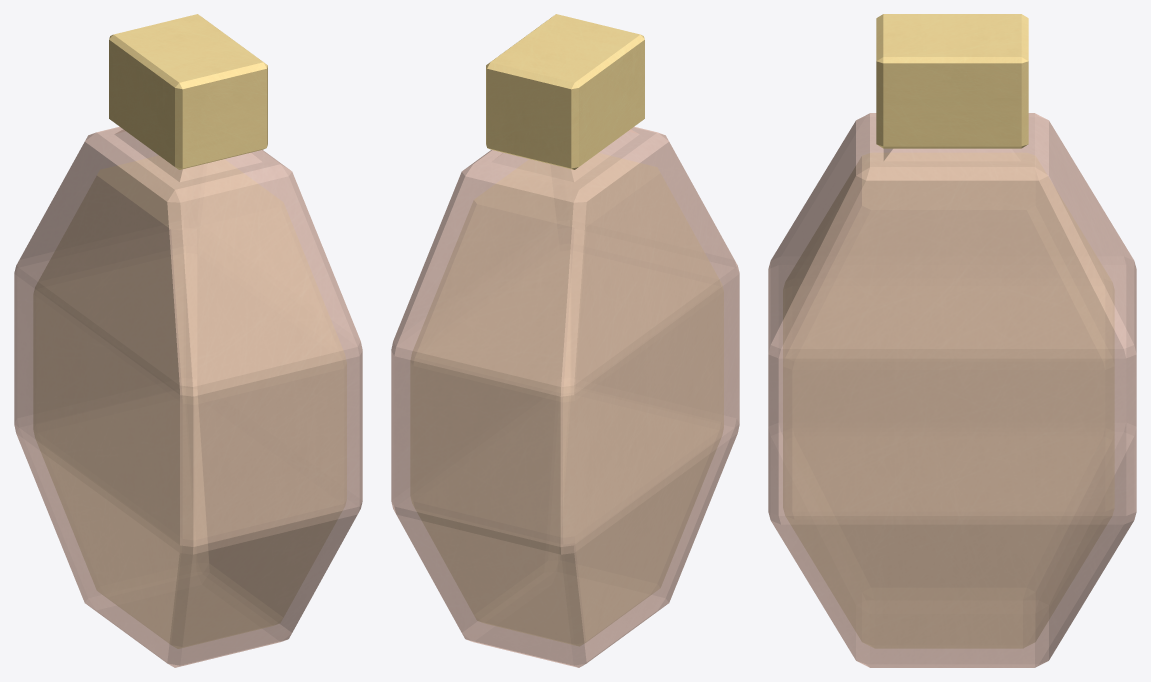
The model's file is bottle_pink.glb.
3 renders of one model, left to right at view 1: azimuth 30°, elevation 25°; view 2: azimuth 150°, elevation 25°; view 3: azimuth 270°, elevation 25°, orthographic. The views are drawn at different scales.
Parts seen in each view (by area): view 1: bottle, water, top; view 2: bottle, water, top; view 3: bottle, water, top.
Part boxes in pixels (x1,y1,x2,y2): bottle: (14, 126, 362, 667); water: (33, 156, 346, 648); top: (109, 14, 267, 169); bottle: (391, 126, 739, 667); water: (410, 153, 723, 645); top: (486, 14, 644, 169); bottle: (768, 113, 1136, 667); water: (783, 153, 1114, 648); top: (876, 14, 1028, 148).
Size of the model in its own units: 1.2 by 3.63 by 2.
3 materials, 3 textured.
